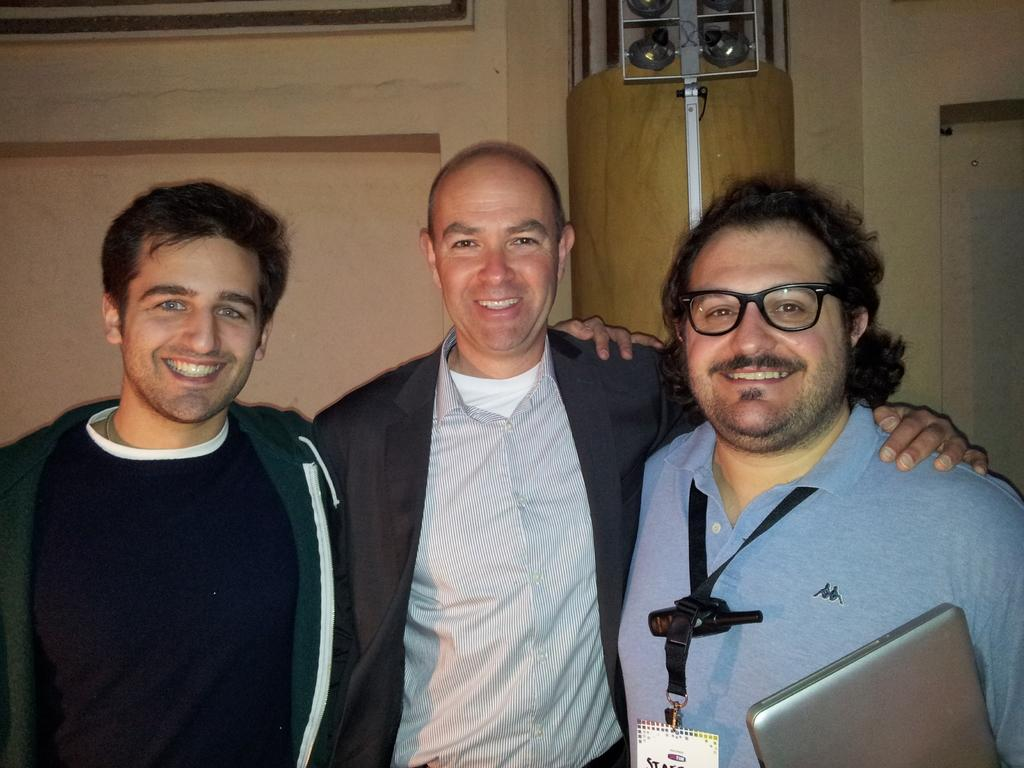Sem Máscara: (683, 218, 849, 434), (119, 233, 259, 419), (431, 170, 558, 351)
